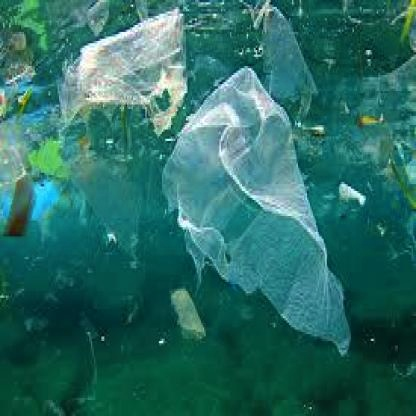pbag: (159, 62, 354, 352), (44, 9, 189, 139)
